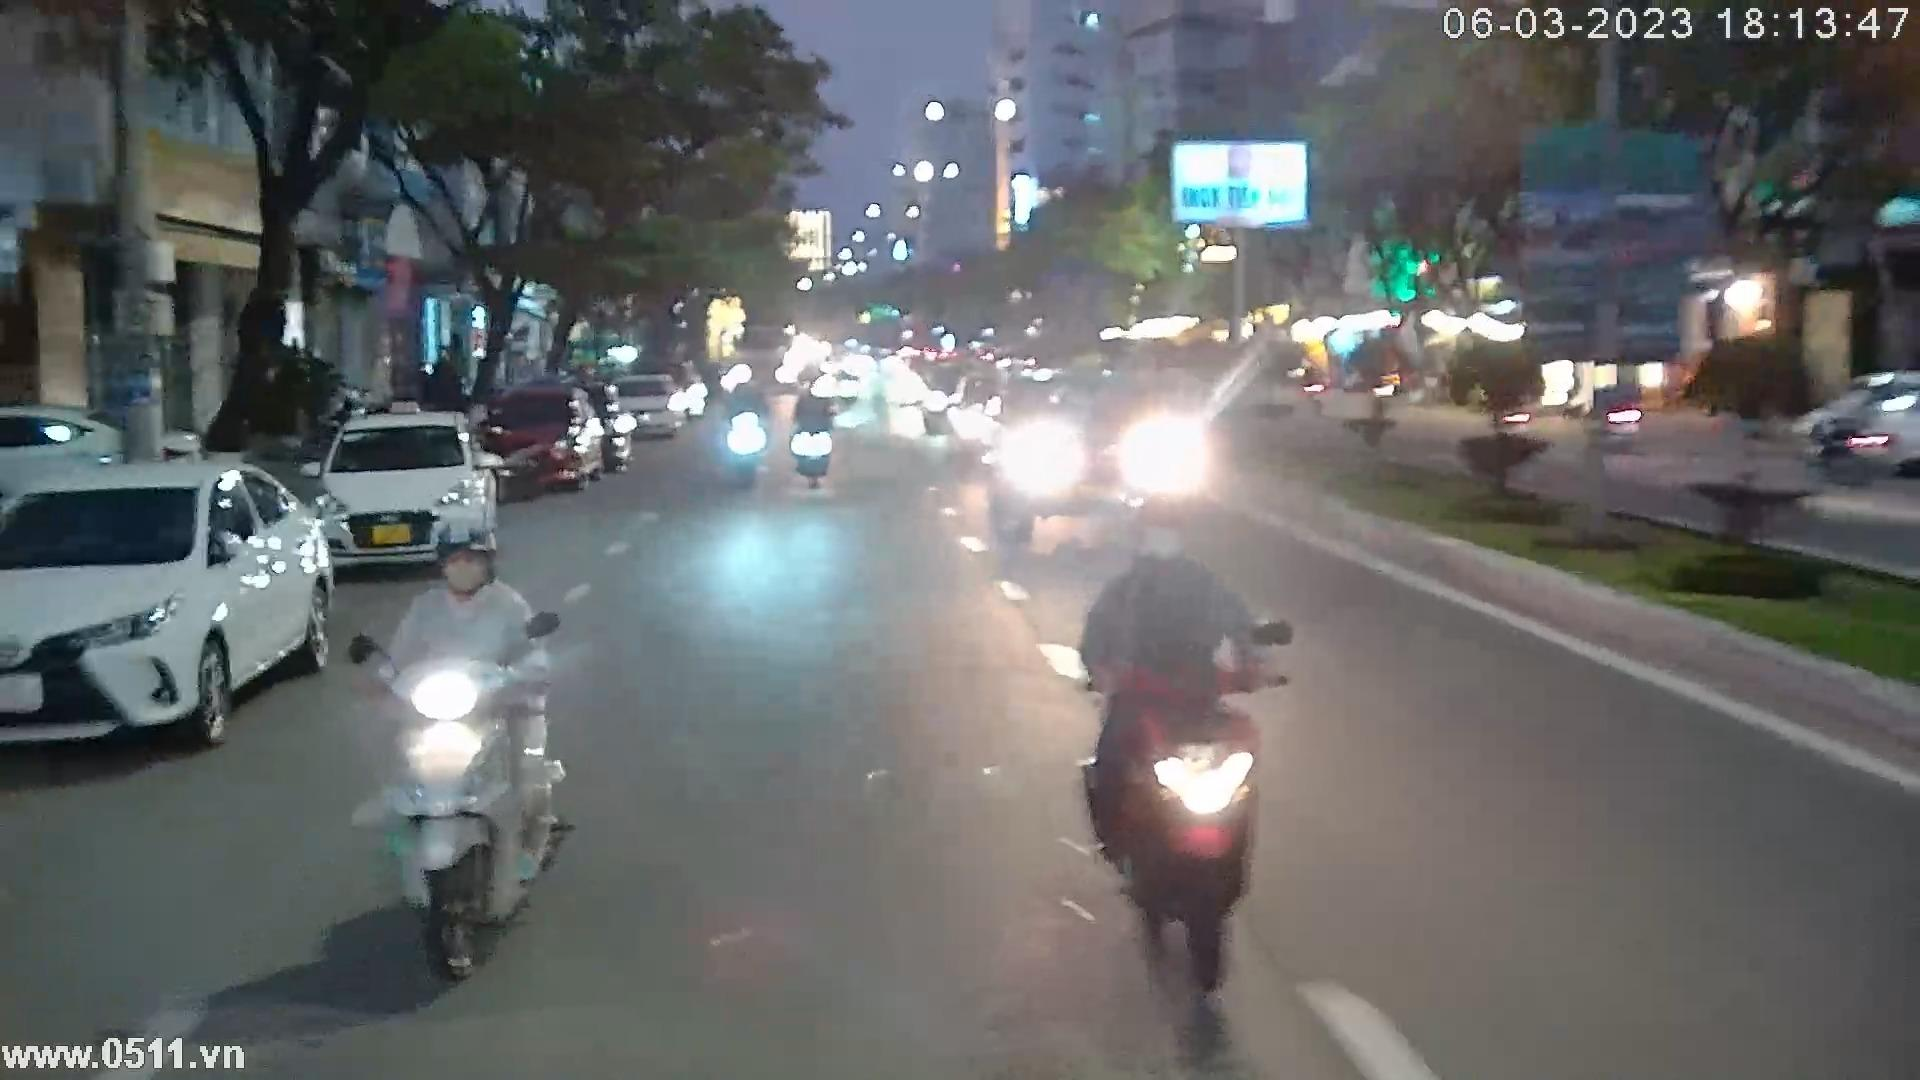car: (0, 452, 339, 756), (988, 355, 1220, 556), (311, 402, 500, 572), (473, 376, 611, 493), (603, 371, 695, 440)
motorcycle: (340, 514, 580, 986), (1080, 495, 1300, 994), (715, 375, 778, 491), (787, 376, 844, 497)
